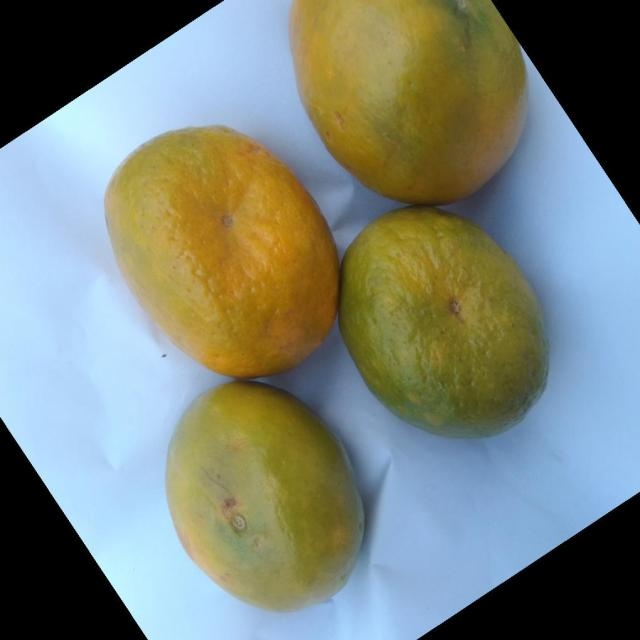agrume: (103, 123, 340, 378), (287, 0, 529, 206), (338, 204, 550, 439), (164, 380, 366, 612)
